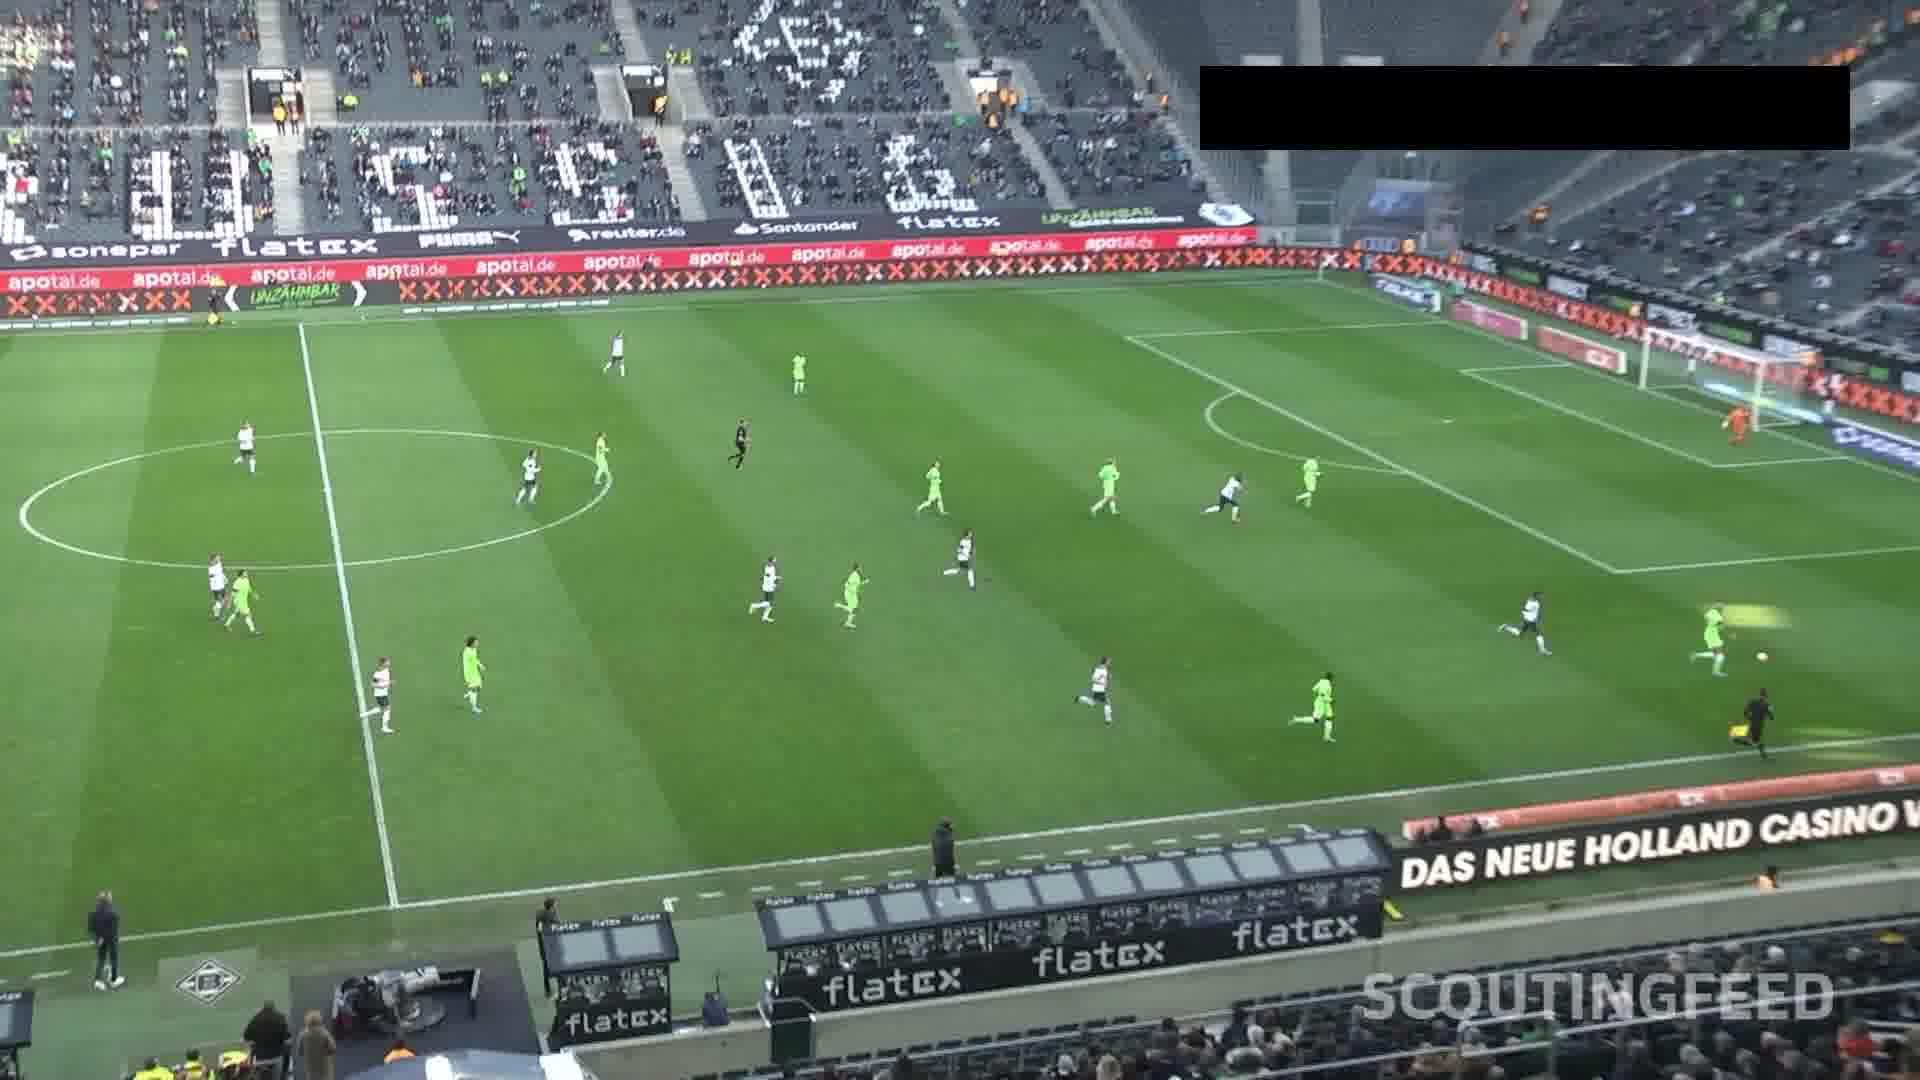football: (1754, 650, 1768, 665)
